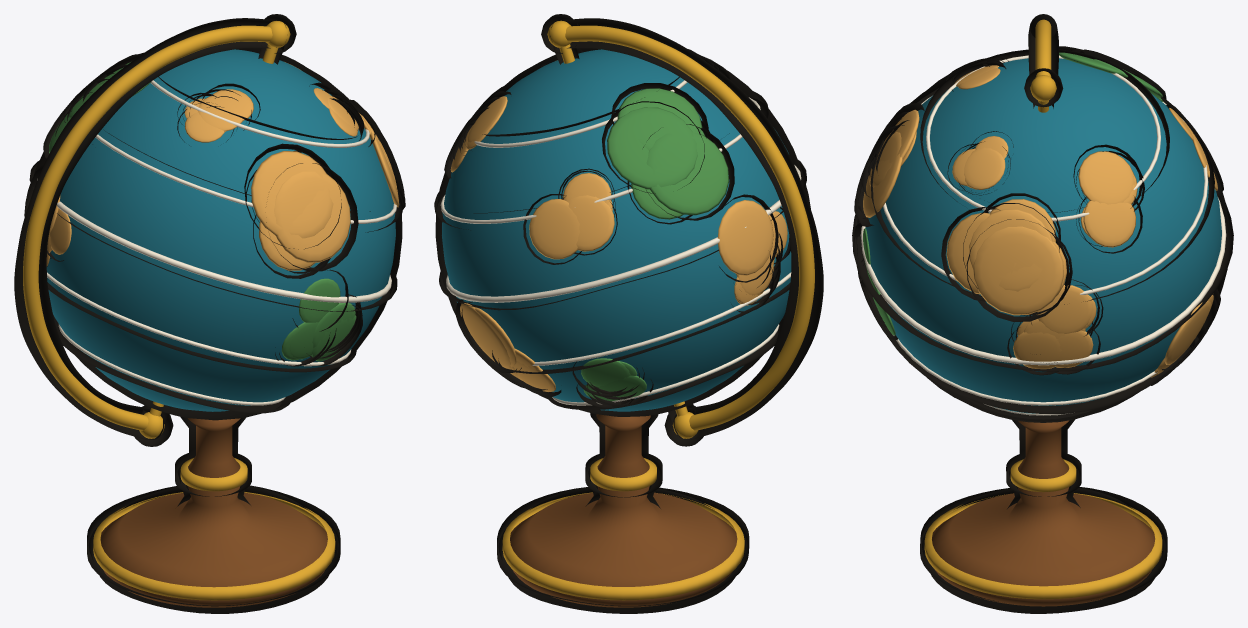
File: globe.glb
The picture shows the model from 3 angles, left to right: view 1: azimuth 30°, elevation 25°; view 2: azimuth 150°, elevation 25°; view 3: azimuth 270°, elevation 25°; orthographic projection.
Visible parts, largest first — view 1: Globe, Globe_outline; view 2: Globe, Globe_outline; view 3: Globe, Globe_outline.
Part boxes in pixels (x1,y1,x2,y2): Globe: (23, 21, 399, 607); Globe_outline: (14, 14, 405, 613); Globe: (440, 20, 814, 607); Globe_outline: (434, 14, 823, 613); Globe: (860, 19, 1226, 606); Globe_outline: (852, 14, 1233, 613).
Size of the model in its own units: 1.86 by 2.63 by 1.71.
